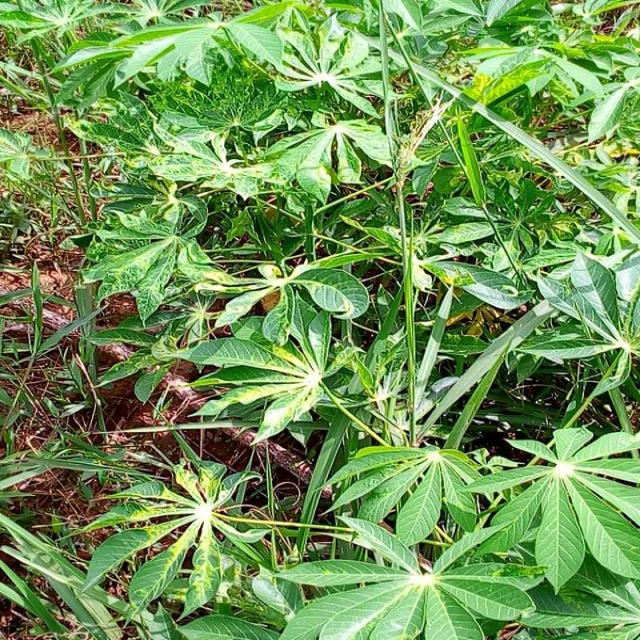cassava leaf: (52, 1, 639, 638)
